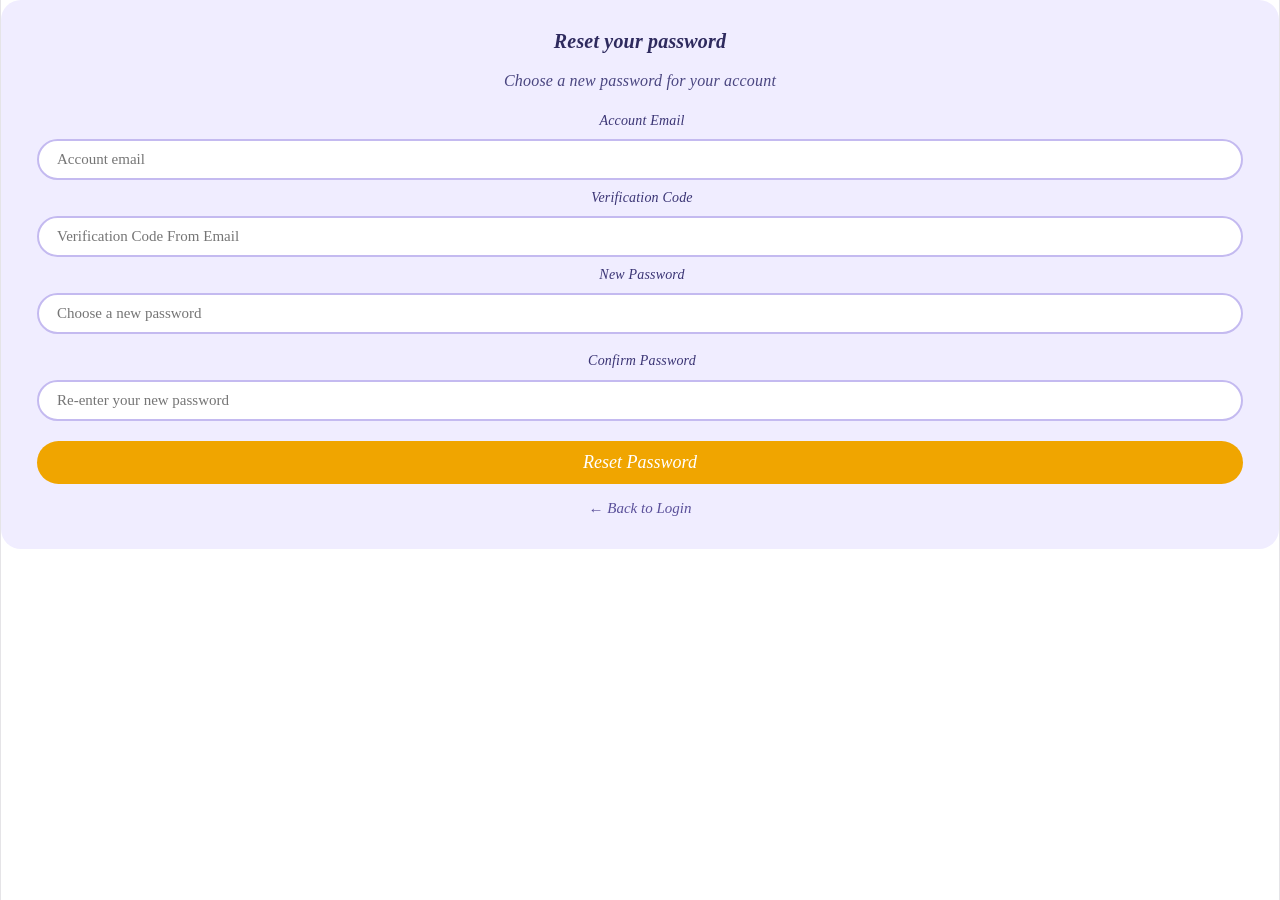
Test case: ResetPassword Page Unit Tests › shows success message on successful password reset
The width and height of the screenshot is (1280, 900).
Type "travis@ucf.edu" into the field with placeholder "Account email" at (640, 160), box 37,139 -> 1243,180
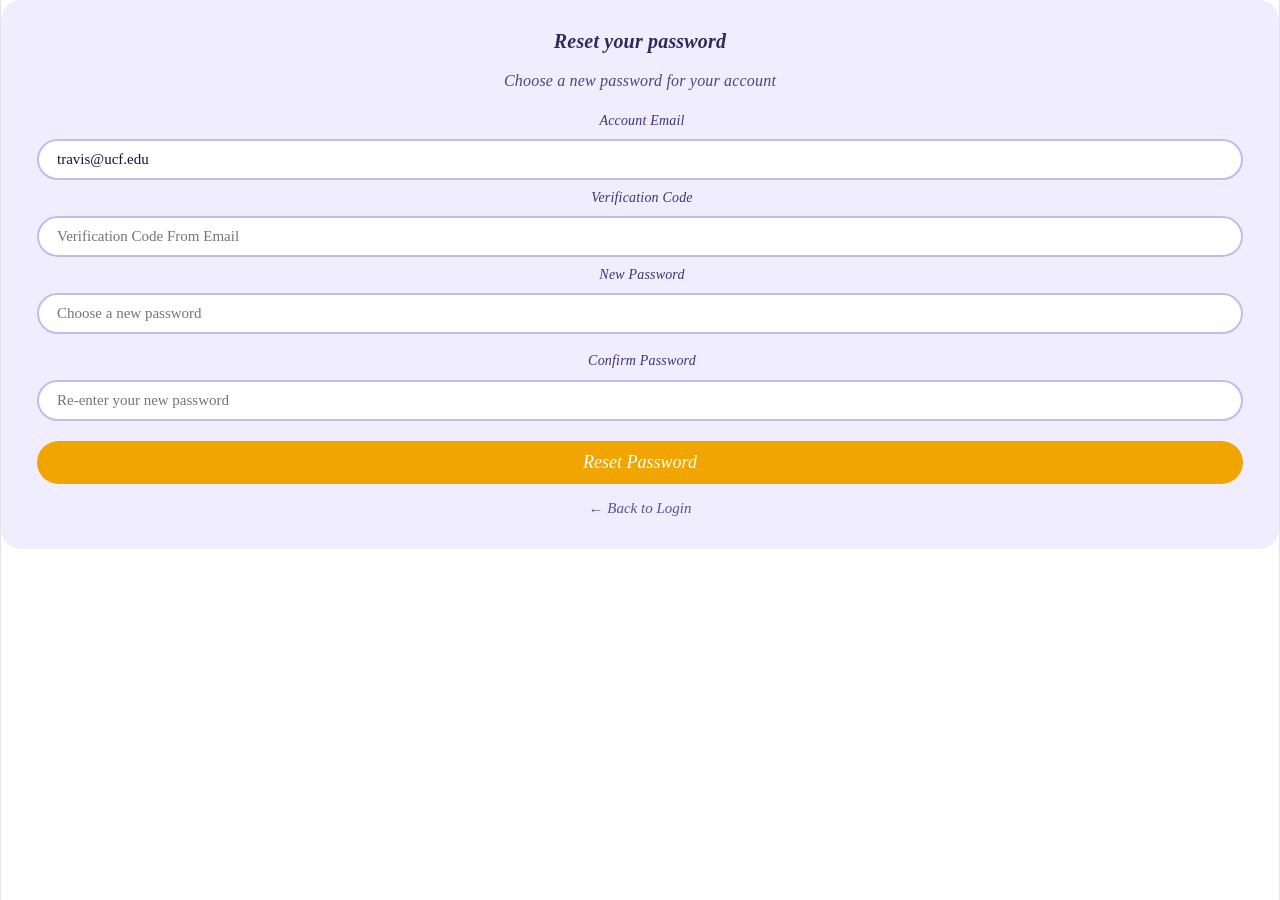
Type "12345" into the field with placeholder "Verification Code From Email" at (640, 237), box 37,216 -> 1243,257
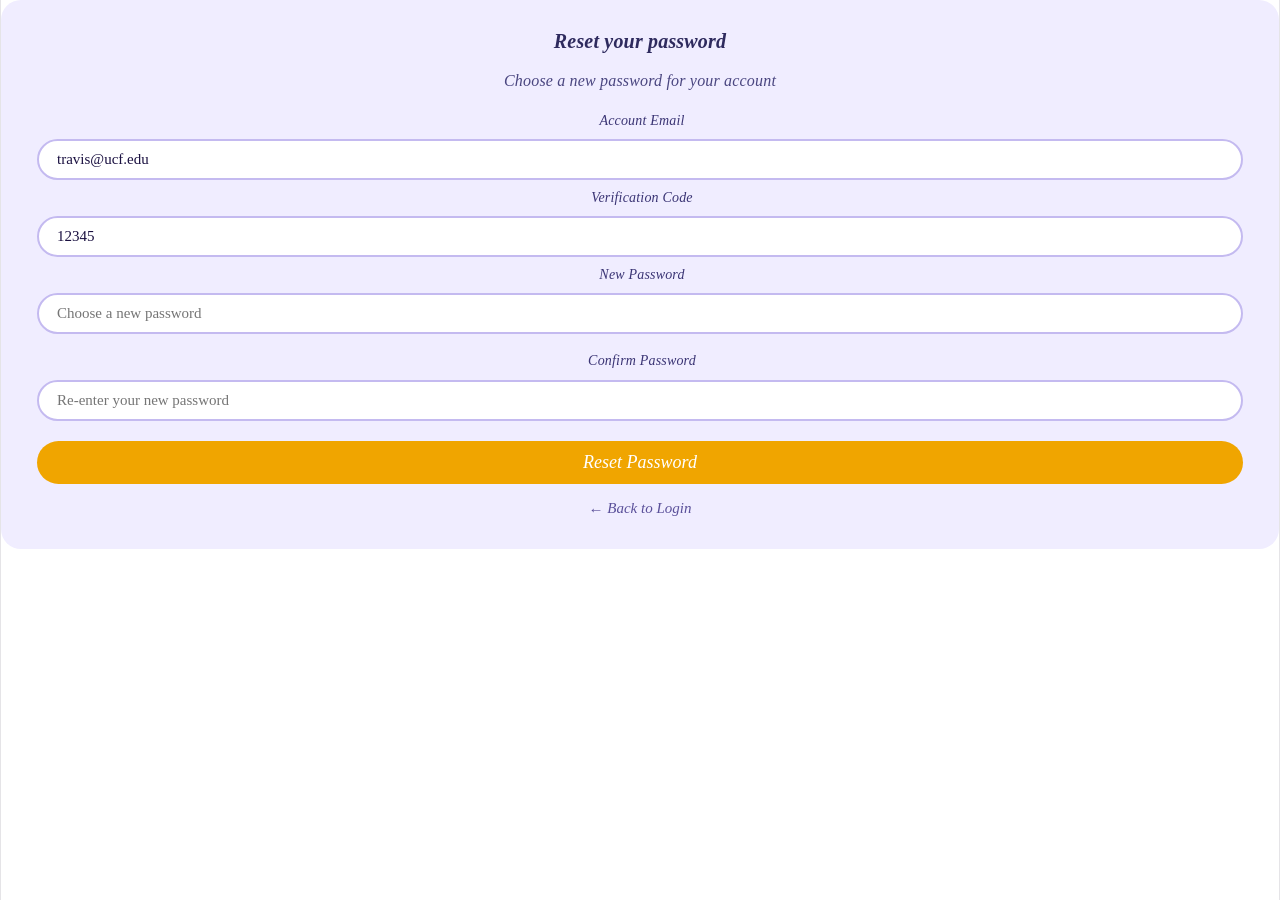
Type "NewPass123" into the password field with placeholder "Choose a new password" at (640, 314), box 37,294 -> 1243,334
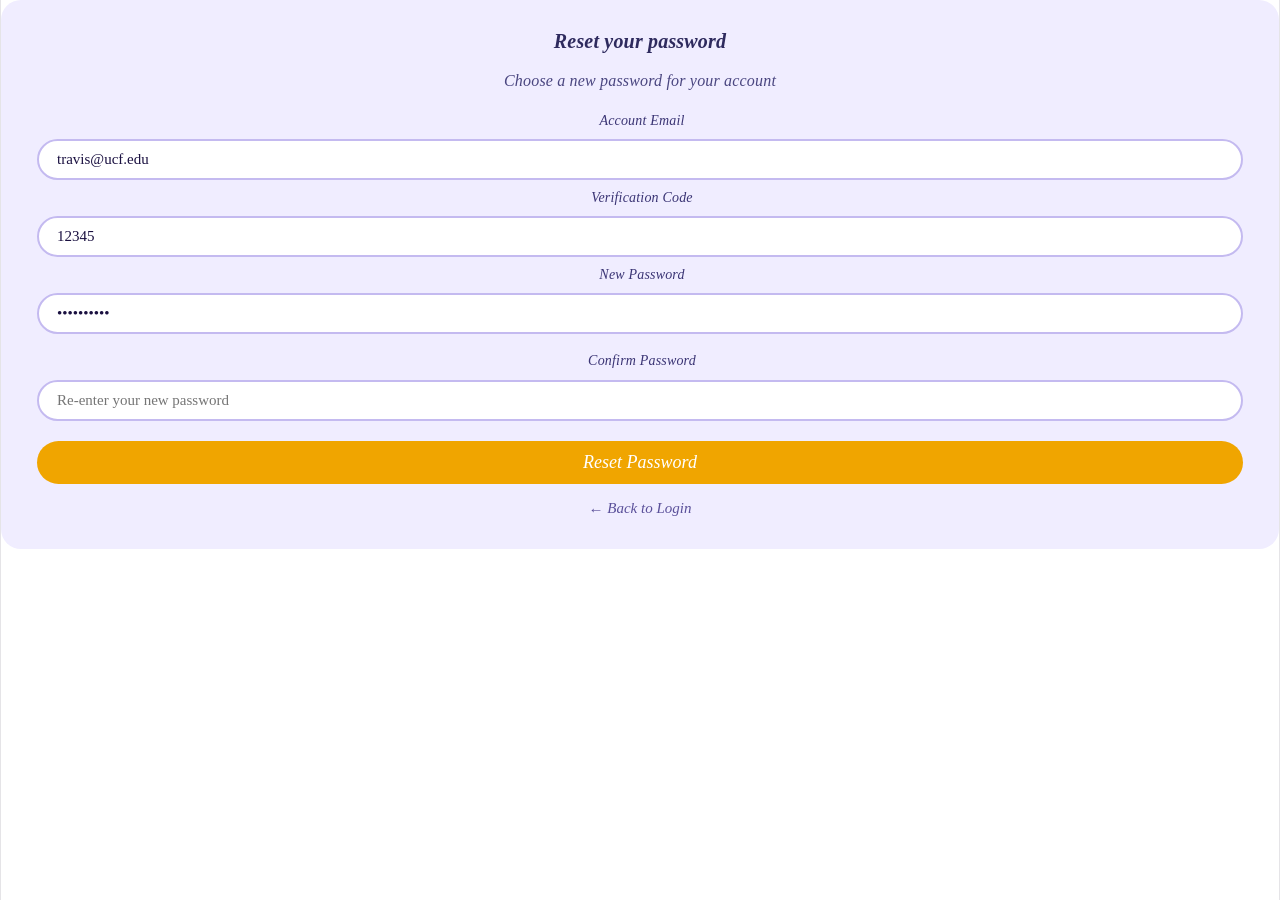
Type "NewPass123" into the password field with placeholder "Re-enter your new password" at (640, 400), box 37,380 -> 1243,421
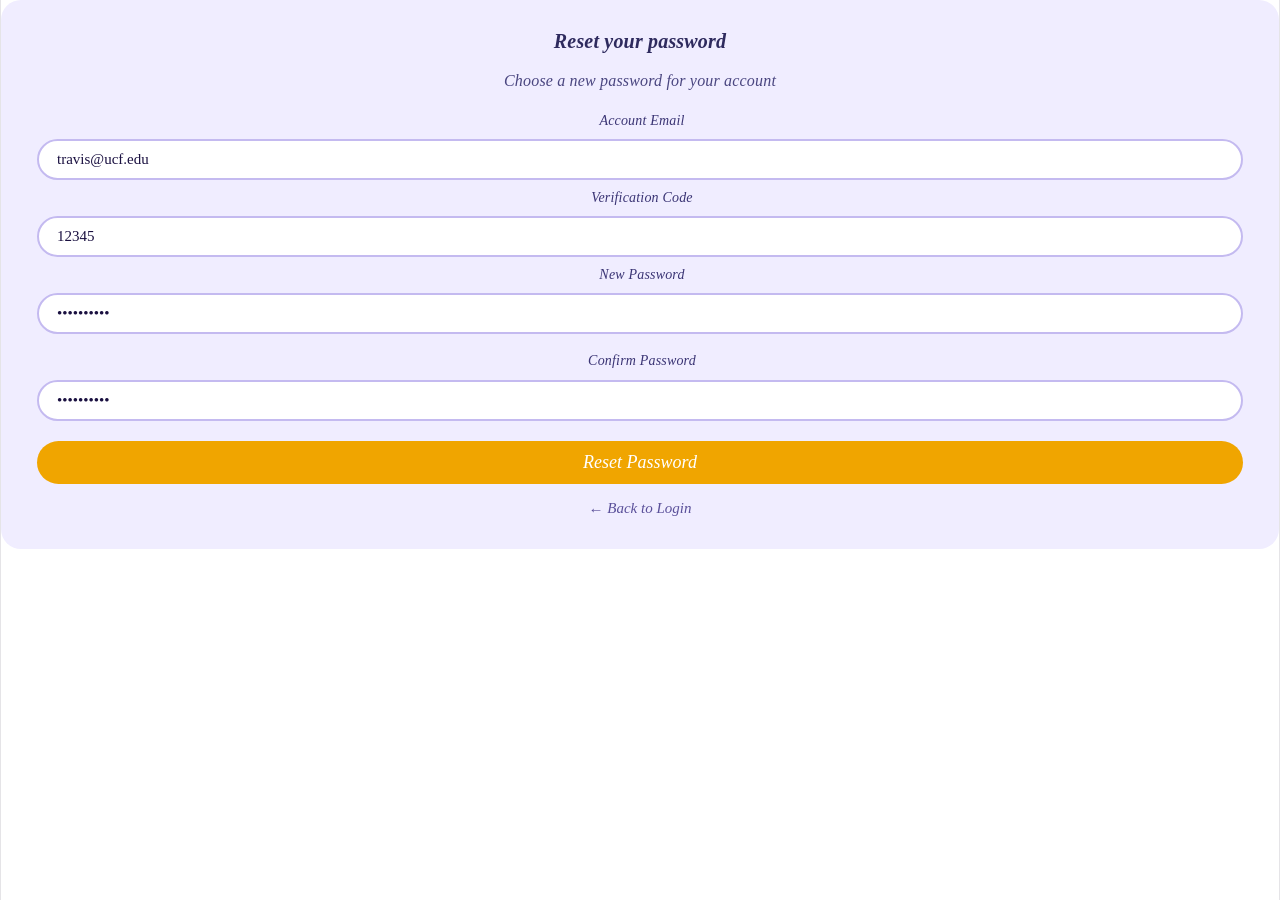
Click the button "Reset Password" at (640, 462), box 37,441 -> 1243,484
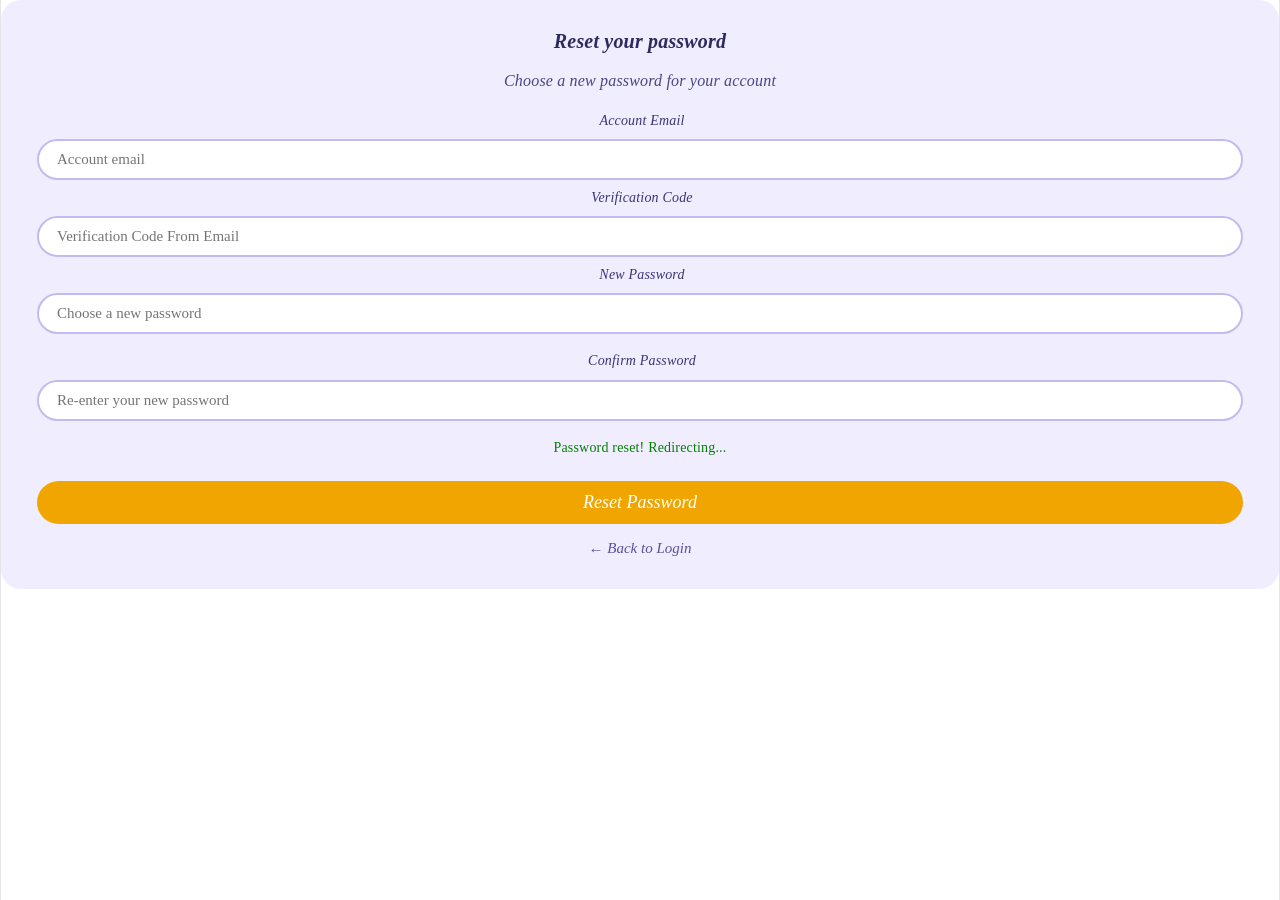
Expected: the text "Password reset! Redirecting..." is shown, 554,440 -> 726,455
